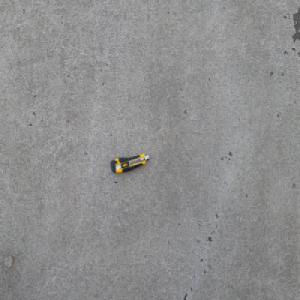Cutter: (109, 153, 149, 173)
